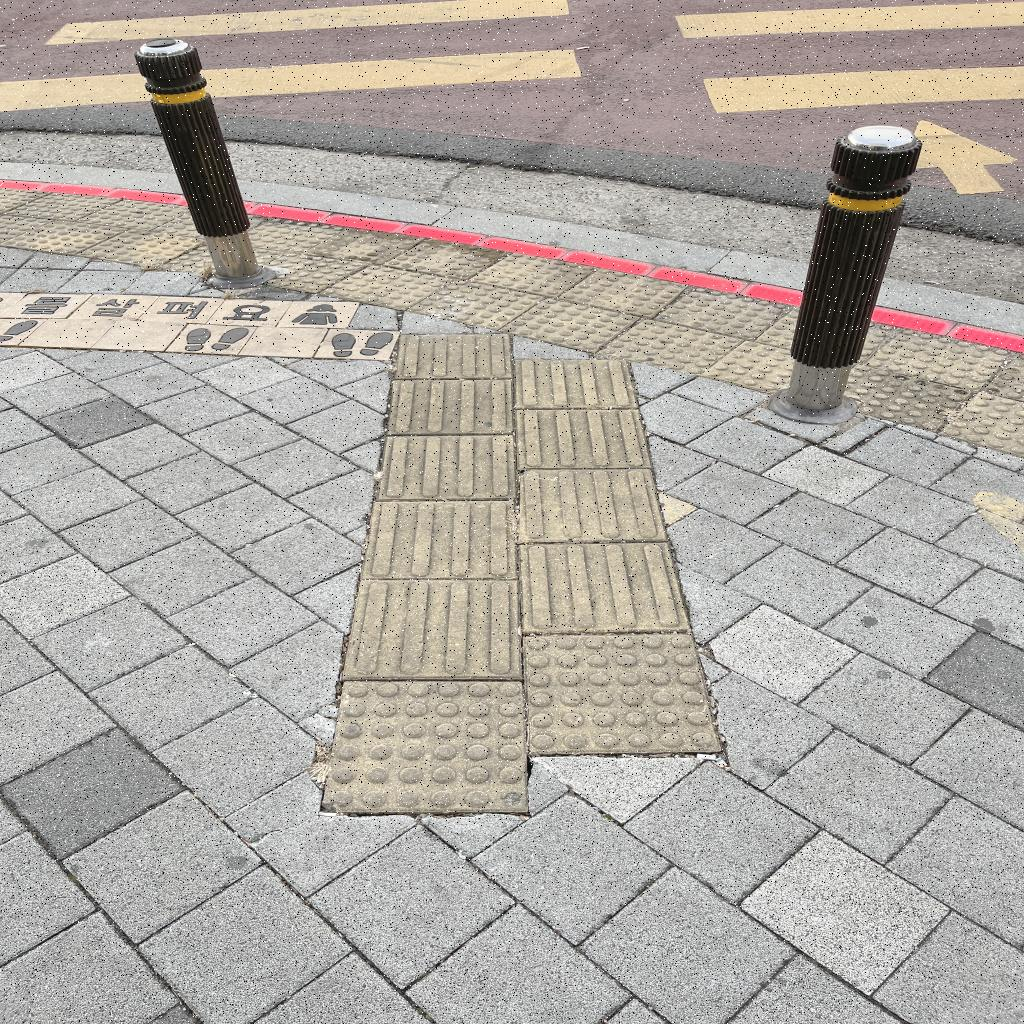Stop block normal: (324, 683, 522, 809), (526, 634, 719, 753), (597, 311, 742, 383), (501, 290, 638, 359), (406, 271, 543, 337), (655, 281, 789, 345), (319, 257, 453, 317), (559, 261, 688, 323), (471, 246, 596, 302), (384, 233, 507, 284)
Straight block normal: (344, 579, 520, 677), (522, 543, 689, 630), (363, 502, 515, 578), (520, 468, 665, 541), (378, 436, 517, 499), (517, 410, 651, 468), (388, 380, 513, 433), (516, 359, 635, 407), (396, 334, 510, 379)
